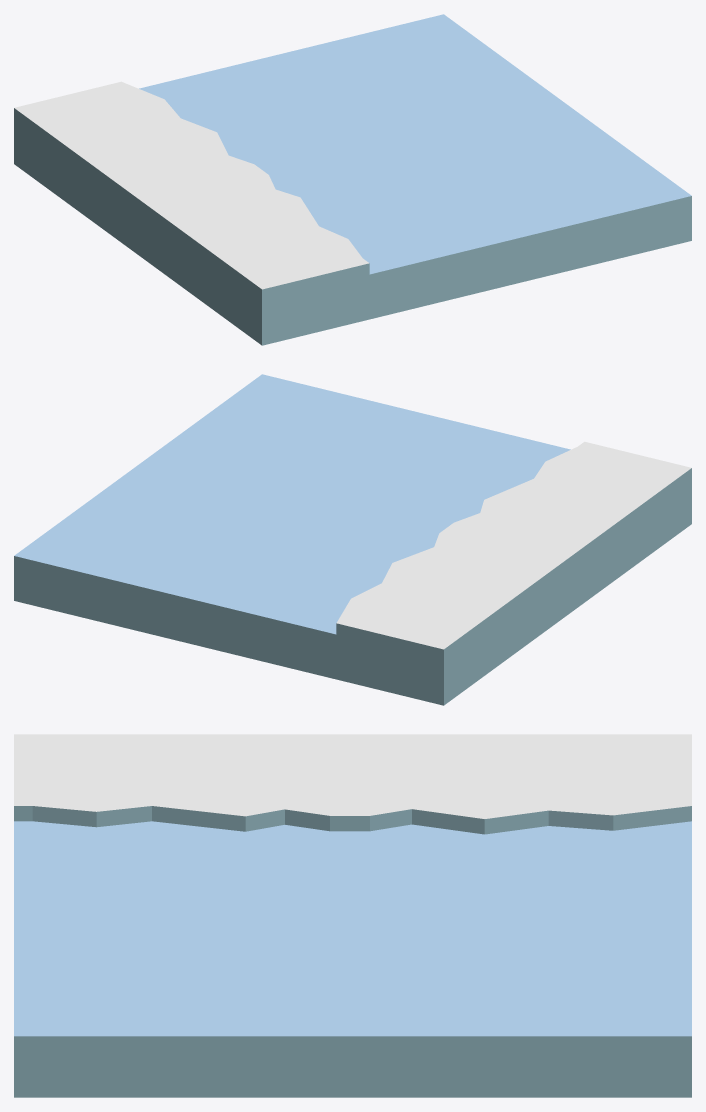
Rendered from Terrain_Tile_Ice_Snow_Water_Bank_03.fbx.
3 renders of one model, top to bottom at view 1: azimuth 30°, elevation 25°; view 2: azimuth 150°, elevation 25°; view 3: azimuth 270°, elevation 25°, orthographic. The views are drawn at different scales.
Visible parts, largest first — view 1: Model; view 2: Model; view 3: Model.
Boxes of the visible parts, box(x1,y1,x2,y2) form: Model: box(14, 14, 691, 345); Model: box(14, 374, 691, 705); Model: box(14, 734, 691, 1097).
Size of the model in its own units: 2000 by 250 by 2000.
